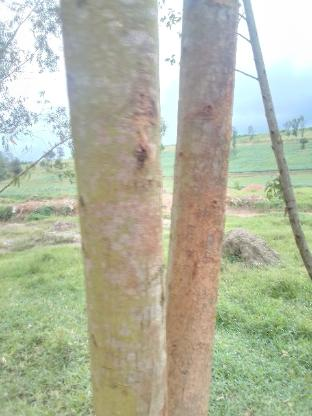tree: (55, 0, 172, 416), (170, 0, 246, 416)
